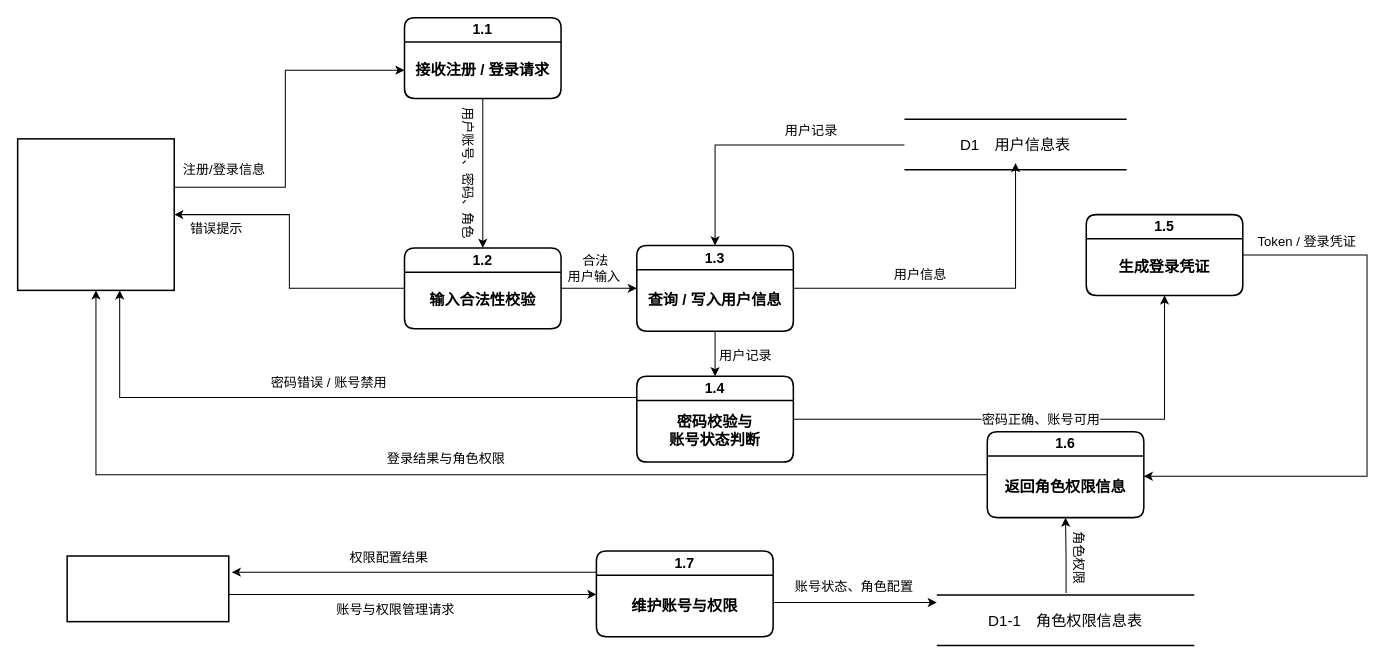
This 1394x665 diagram has some shape labels left out. The centre of each missing label's shape, as x and y in pixels:
学生 / 评委 / 管理员: [95,214]
管理员: [147,588]
